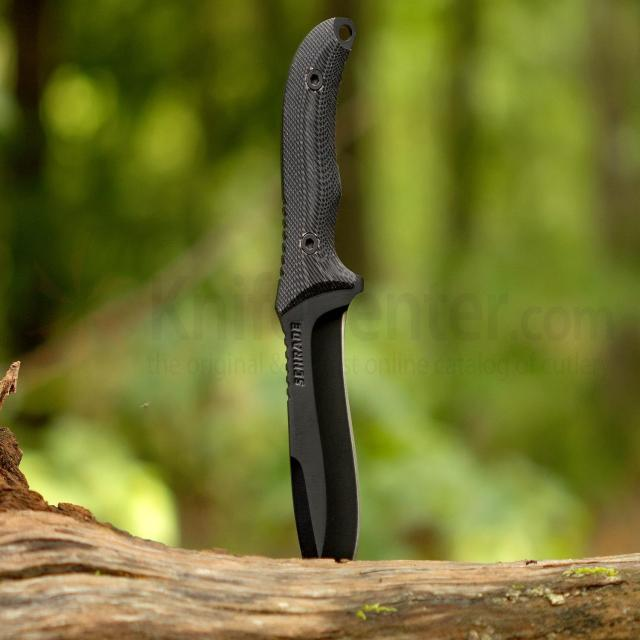knife: (272, 15, 366, 566)
